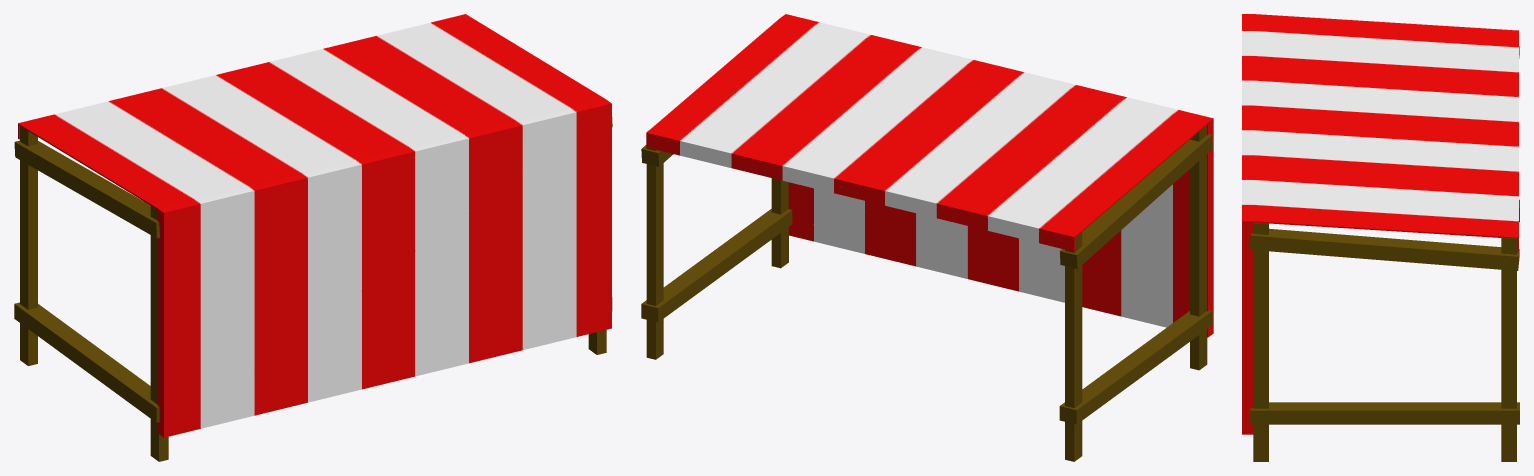
Rendered from stall-tarp.glb.
3 views of the same model, side by side, from view 1: azimuth 30°, elevation 25°; view 2: azimuth 150°, elevation 25°; view 3: azimuth 270°, elevation 25° (orthographic). The views are drawn at different scales.
Visible parts, largest first — view 1: Stall; view 2: Stall; view 3: Stall.
Boxes of the visible parts, x1,y1,x2,y2 form: Stall: [14, 14, 612, 461]; Stall: [641, 14, 1213, 461]; Stall: [1242, 14, 1519, 461].
Bounding box in the file's own units: 513 × 273 × 286.
2 materials, 2 textured.
